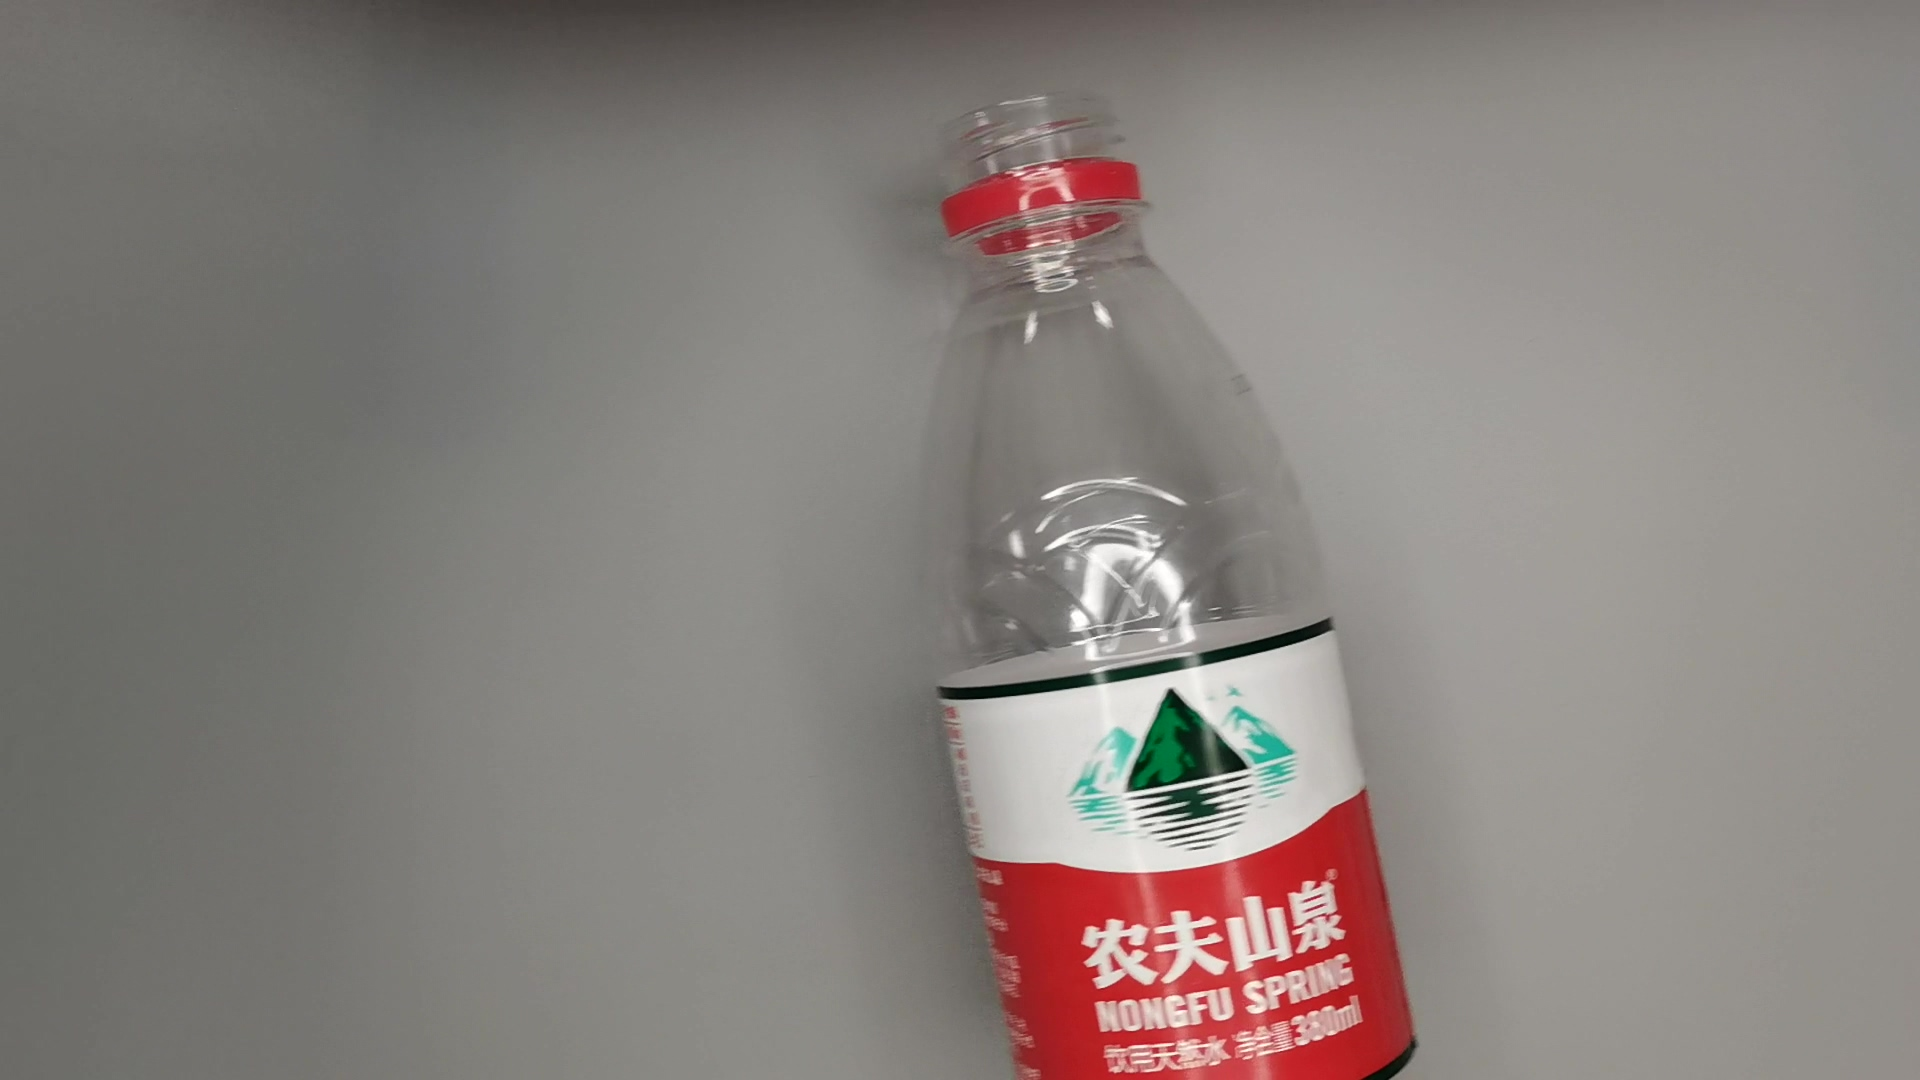bottle: (899, 83, 1428, 1080)
